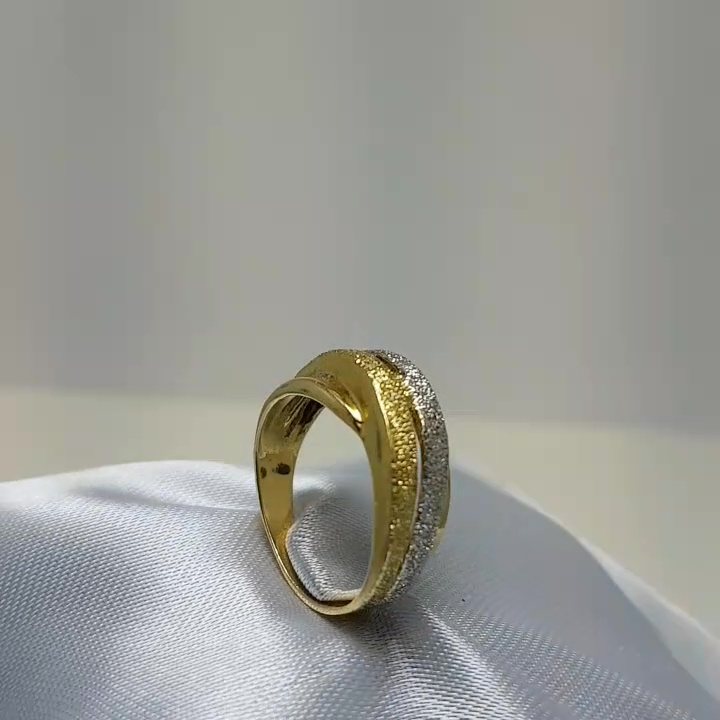Ring 5: (218, 335, 485, 639)
